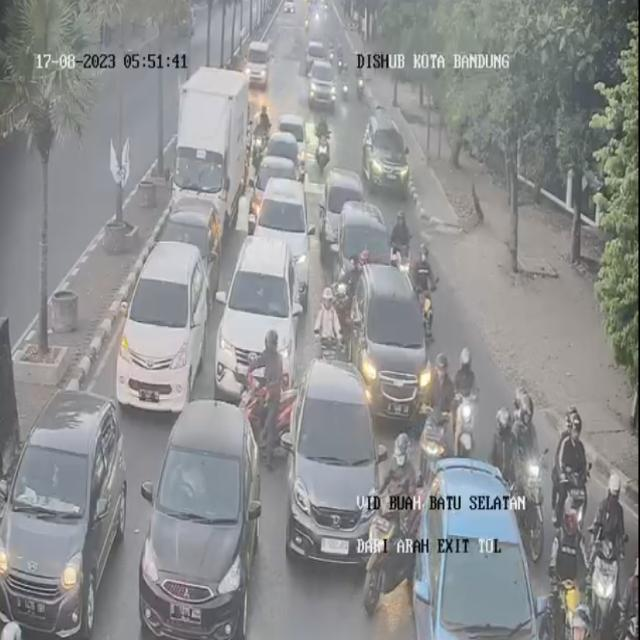cars: (123, 392, 256, 632), (0, 388, 115, 630), (424, 444, 532, 640), (297, 350, 374, 554), (123, 239, 215, 408), (215, 237, 298, 398), (348, 258, 429, 419), (252, 173, 313, 291), (336, 195, 392, 314), (162, 195, 214, 283), (360, 110, 406, 203), (321, 161, 354, 252), (308, 57, 336, 118), (266, 125, 301, 167), (280, 109, 306, 151), (248, 38, 268, 92), (305, 37, 324, 64)
motorcycle: (361, 416, 438, 606), (241, 326, 295, 456), (546, 497, 588, 629), (546, 400, 588, 531), (409, 348, 452, 471), (592, 465, 628, 606), (514, 386, 542, 558), (444, 342, 481, 437), (413, 238, 439, 343), (494, 392, 514, 505), (313, 283, 341, 361), (331, 261, 357, 327), (310, 116, 338, 172), (396, 210, 412, 278), (254, 98, 267, 162), (356, 67, 370, 106), (339, 75, 350, 101)
truck: (174, 68, 249, 236)
